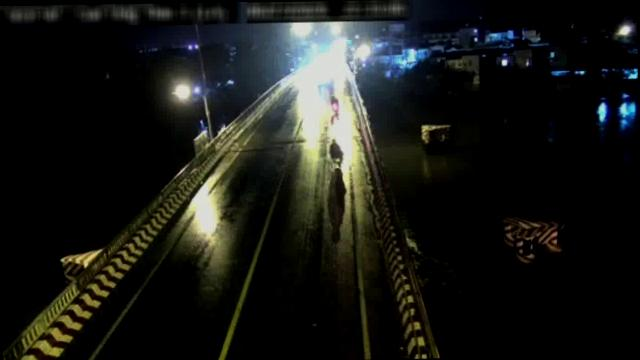Bike: (327, 138, 346, 168), (330, 94, 341, 115)
